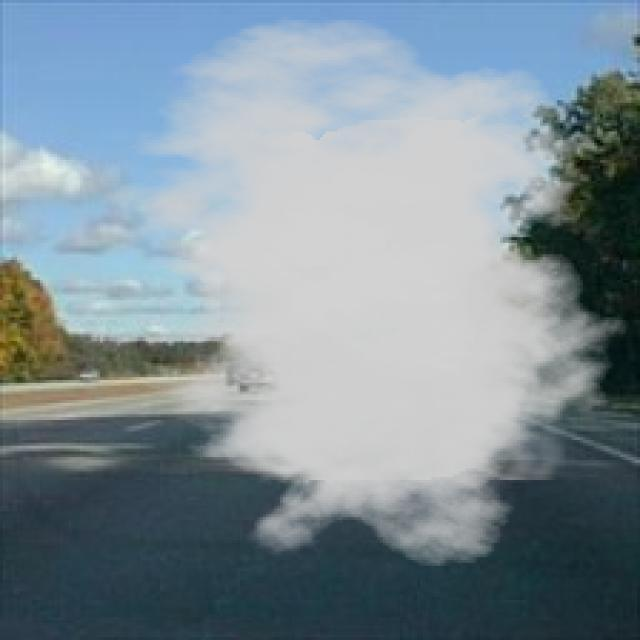Smoke: (77, 17, 637, 569)
